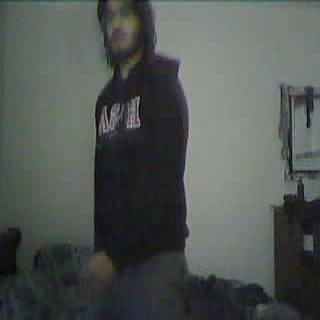Gray Sweatpants: (102, 257, 183, 320)
